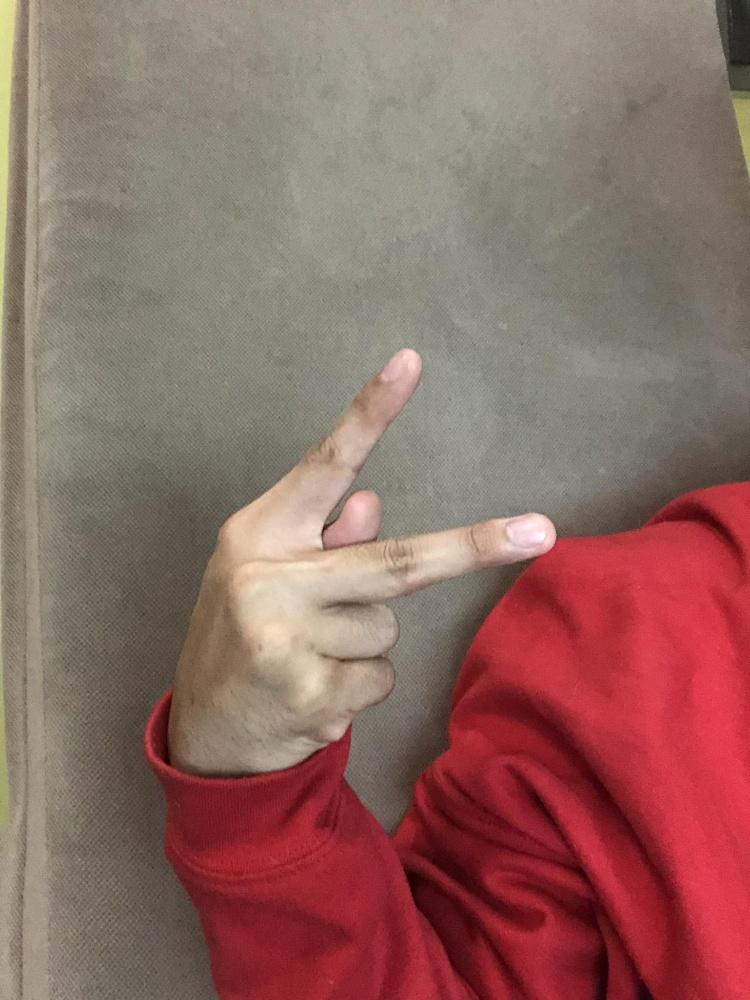k: (166, 341, 561, 775)
